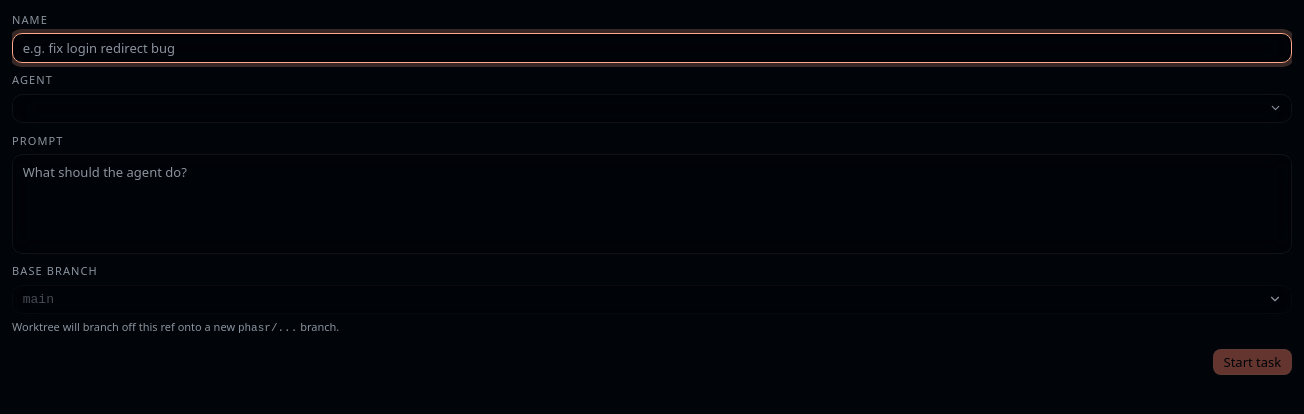
Scenario: NewTaskForm › disables the submit button until a name is entered
Expected: the button "Start task" is disabled, [1213,349,1292,375]
Type "fix bug" into the field with placeholder "e.g. fix login redirect bug".
click(652, 48); type("fix bug")  # box [12,33,1292,63]
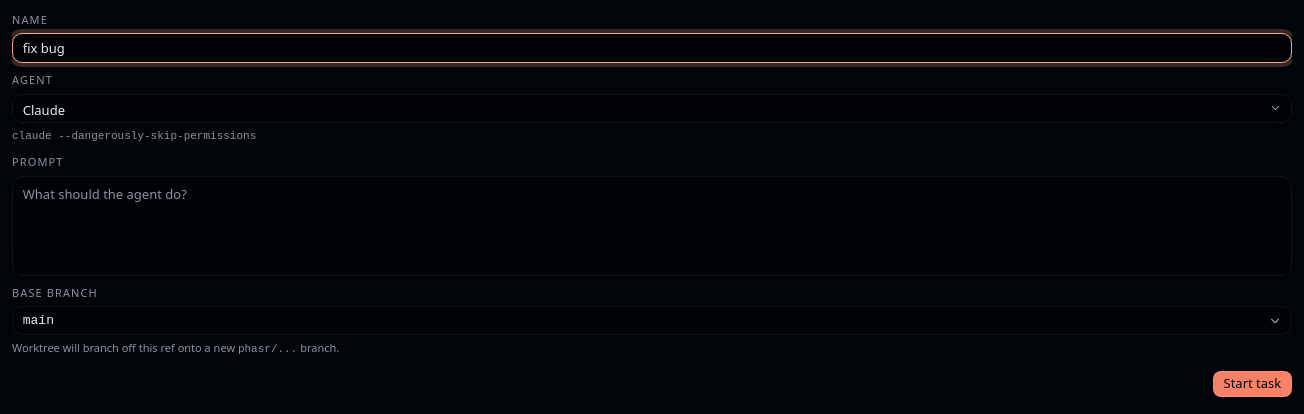
Expected: the button "Start task" is enabled, [1213,371,1292,397]
